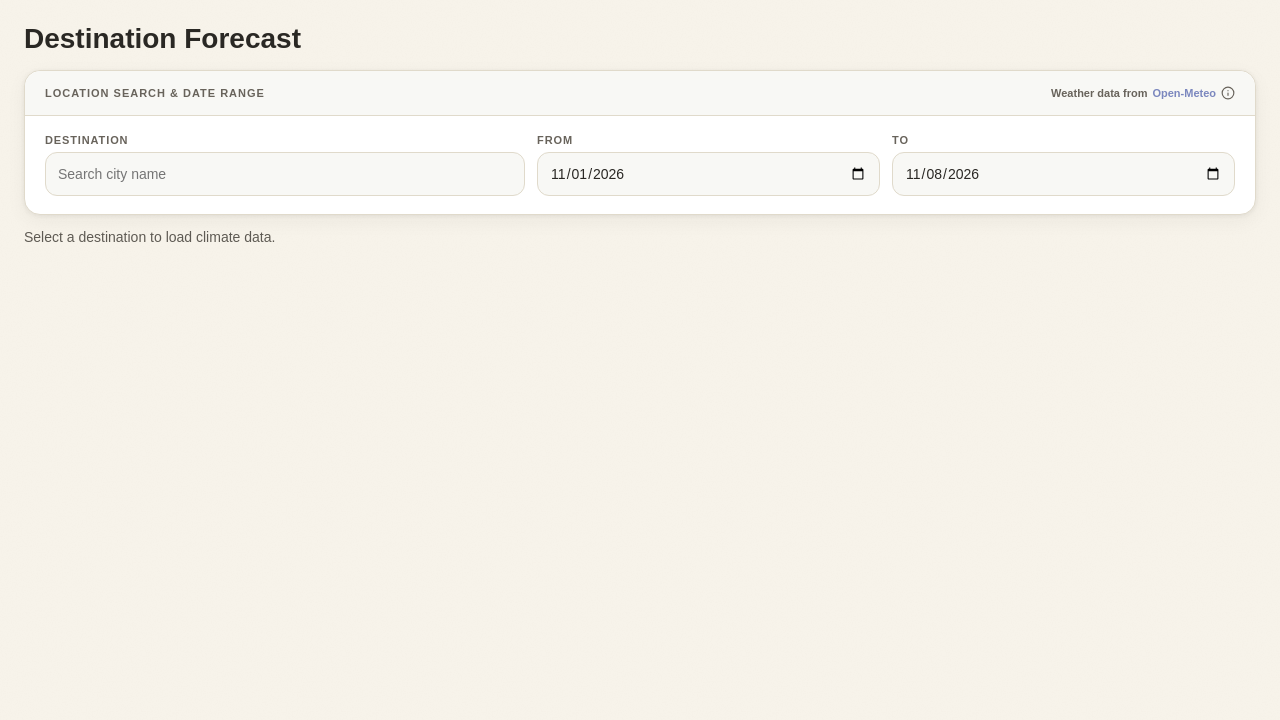
Test: ForecastTool › FE-FOR-006 climate metric cards render after a location and data are loaded
The width and height of the screenshot is (1280, 720).
Type "Bar" into the dropdown named "Search destination" at (285, 174), box [45,152,525,196]
Wait 500 ms
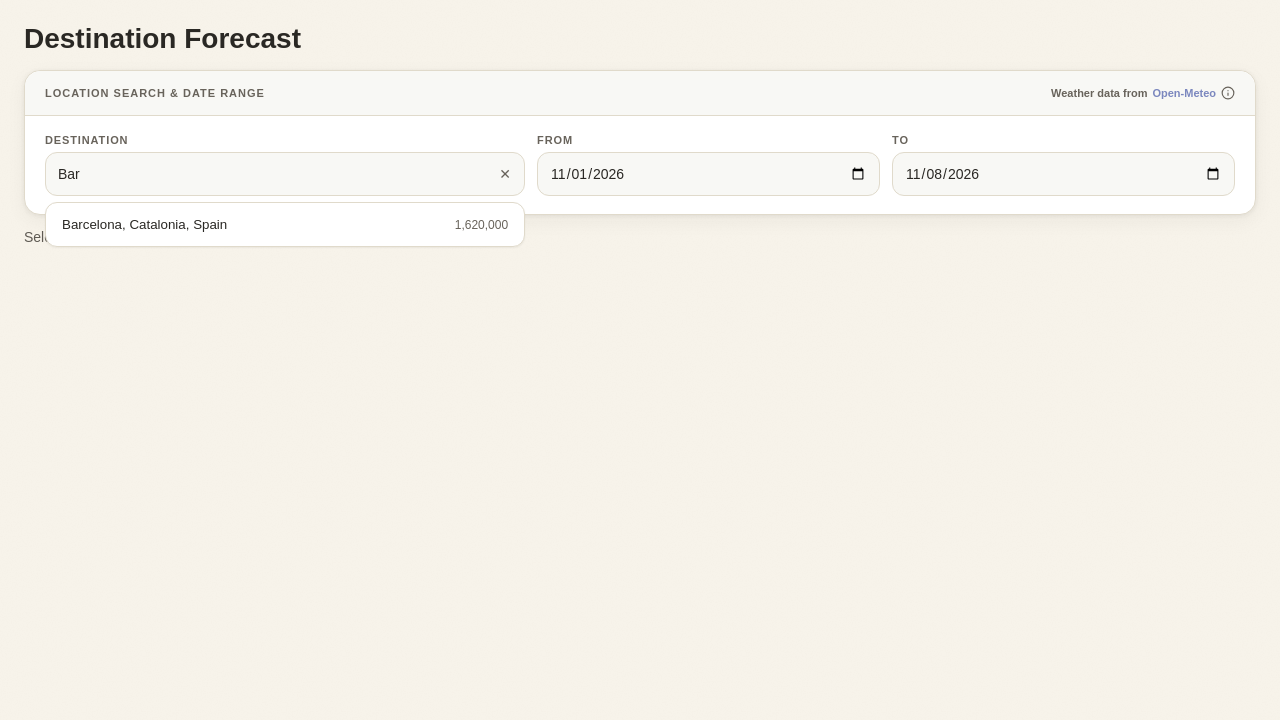
Press ArrowDown in the dropdown named "Search destination", box [45,152,525,196]
Press Enter in the dropdown named "Search destination", box [45,152,525,196]
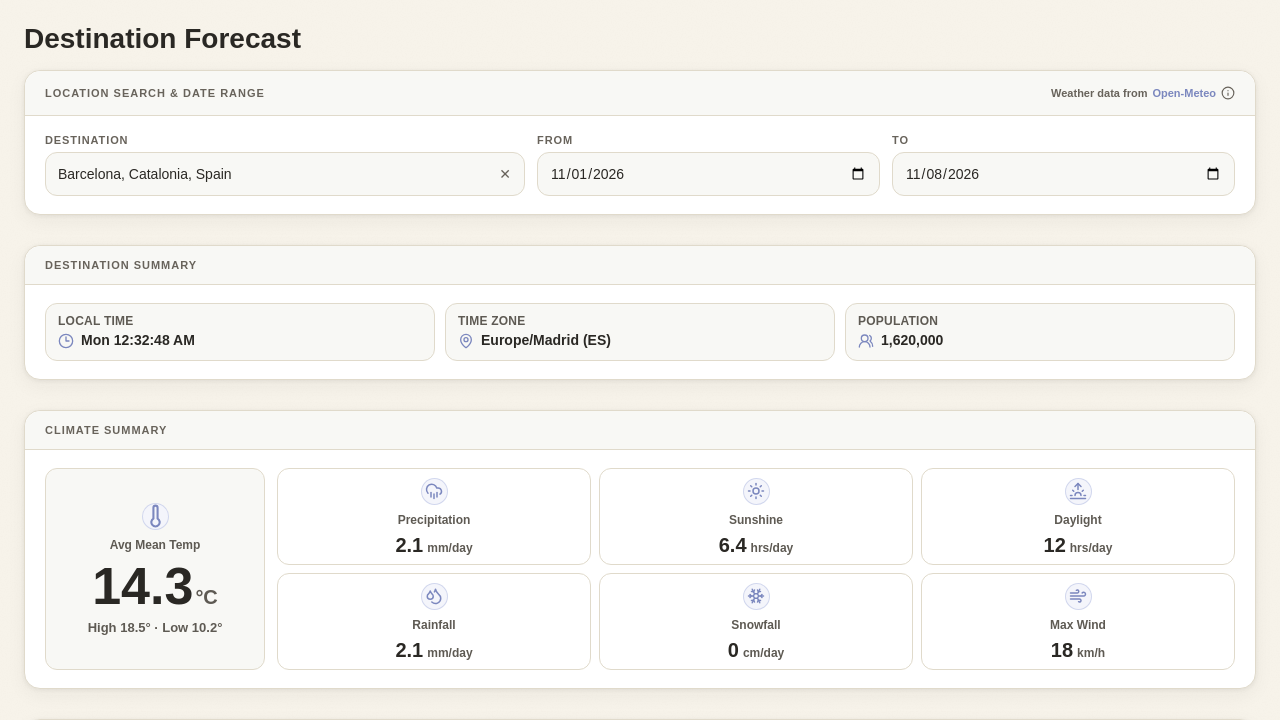
Check: the text "Avg Mean Temp" is shown, box [110,538,200,552]
Check: the text "High 18.5° · Low 10.2°" is shown, box [88,620,222,635]
Check: the text "Precipitation" is shown, box [398,513,470,527]
